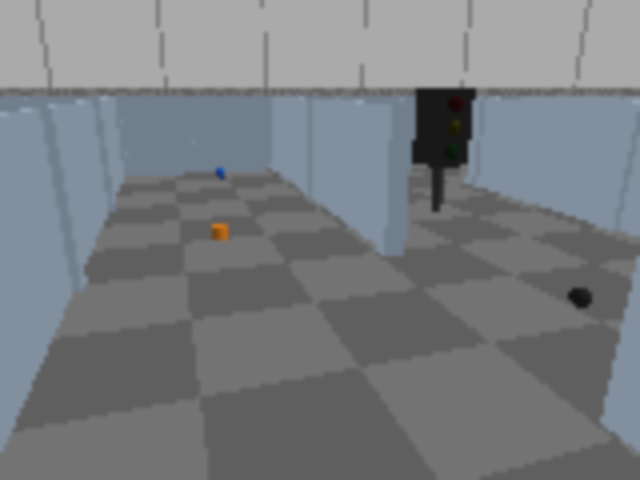puck: (563, 284, 598, 312), (211, 223, 228, 241)
traffic_light: (410, 81, 476, 215)
